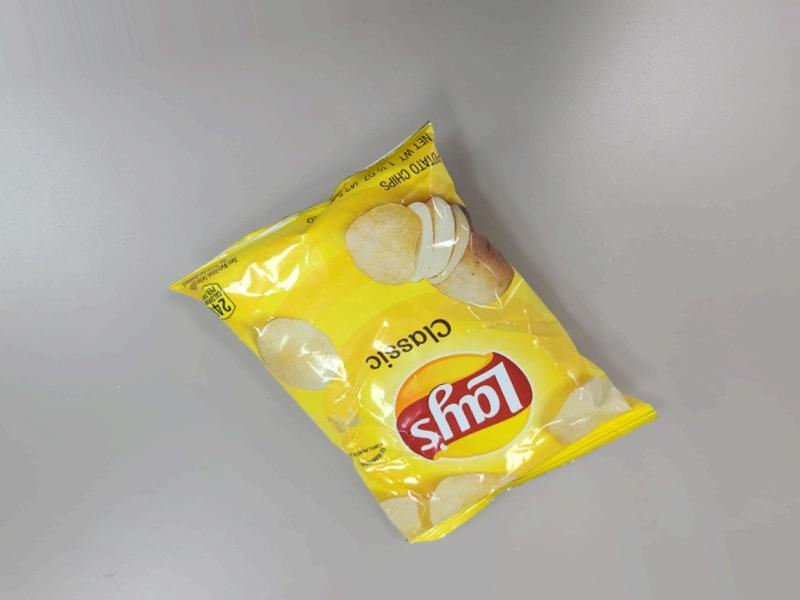lays: (292, 88, 673, 598)
